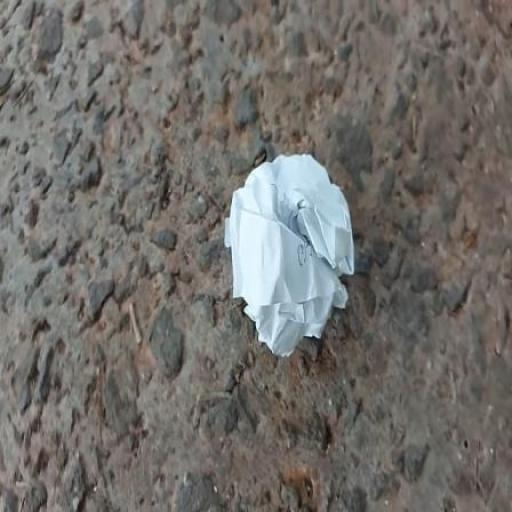paper: (141, 70, 422, 409)
